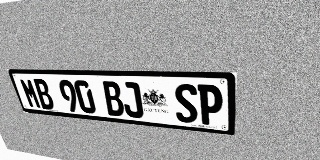0: (72, 80, 97, 114)
9: (57, 79, 81, 112)
B: (101, 81, 125, 117), (32, 79, 56, 110)
J: (119, 82, 144, 119)
M: (19, 78, 42, 109)
P: (197, 84, 223, 126)
S: (173, 83, 198, 124)
